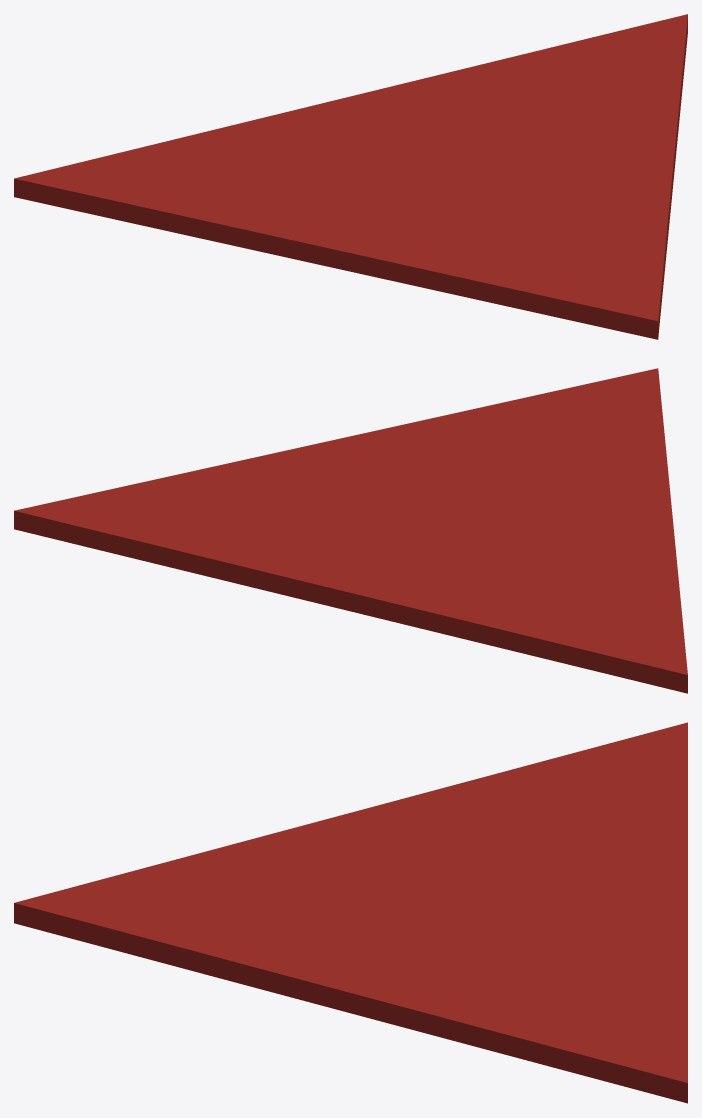
The model's file is traffic_sign_primitive_4.dae.
3 renders of one model, top to bottom at view 1: azimuth 30°, elevation 25°; view 2: azimuth 150°, elevation 25°; view 3: azimuth 270°, elevation 25°, orthographic. The views are drawn at different scales.
Parts seen in each view (by area): view 1: coordinate_2_material0, coordinate_3_material0, coordinate_1_material0; view 2: coordinate_2_material0, coordinate_4_material0; view 3: coordinate_2_material0, coordinate_1_material0.
Boxes of the visible parts, x1,y1,x2,y2 form: coordinate_2_material0: (14, 14, 687, 321); coordinate_3_material0: (14, 178, 658, 339); coordinate_1_material0: (658, 16, 687, 336); coordinate_2_material0: (14, 368, 687, 674); coordinate_4_material0: (14, 511, 687, 693); coordinate_2_material0: (14, 722, 687, 1082); coordinate_1_material0: (14, 903, 687, 1103).
Size of the model in its own units: 5.98 by 0.1585 by 4.72.
